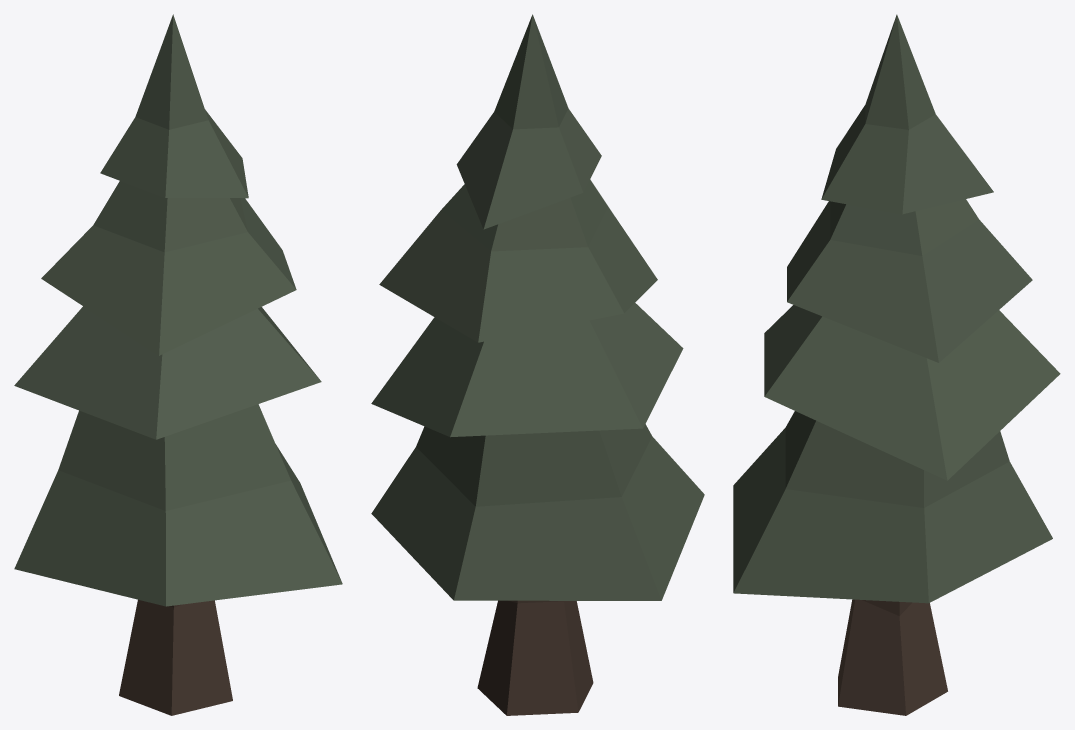
Rendered from Darkgreen_conetree4.fbx.
3 views of the same model, side by side, from view 1: azimuth 30°, elevation 25°; view 2: azimuth 150°, elevation 25°; view 3: azimuth 270°, elevation 25° (orthographic).
Visible parts, largest first — view 1: Darkgreen_conetree4; view 2: Darkgreen_conetree4; view 3: Darkgreen_conetree4.
Part boxes in pixels (left/top/right/bottom): Darkgreen_conetree4: left=14, top=14, right=342, bottom=715; Darkgreen_conetree4: left=371, top=14, right=704, bottom=715; Darkgreen_conetree4: left=733, top=14, right=1060, bottom=715.
Size of the model in its own units: 529 by 1190 by 521.
